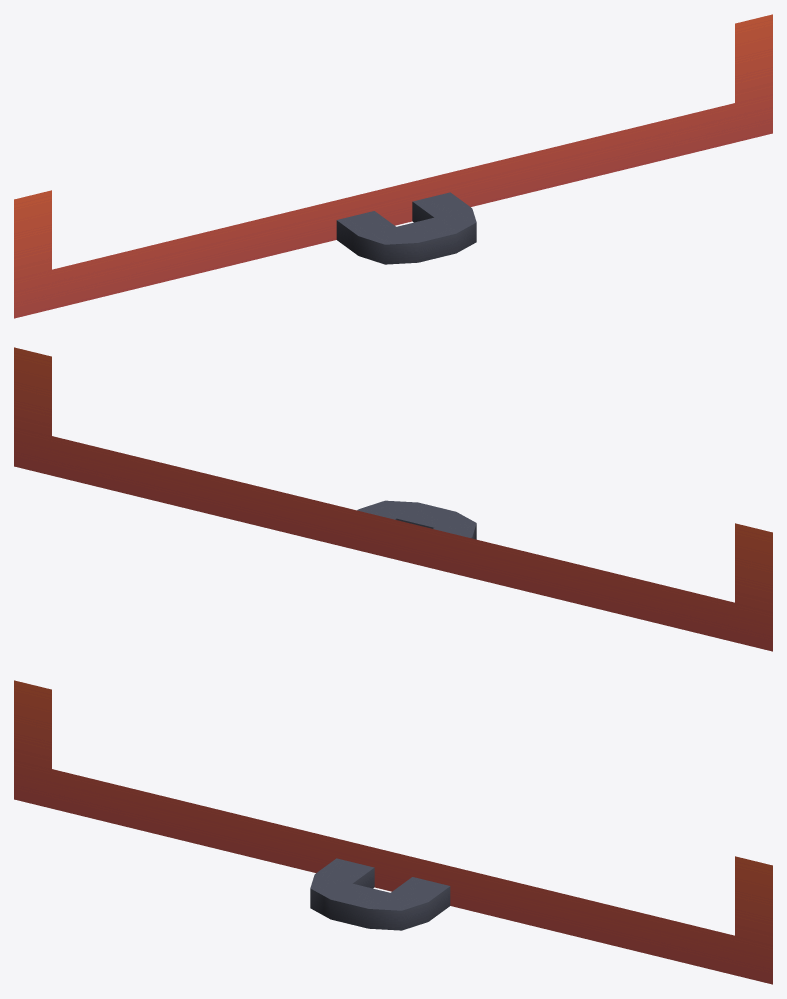
The model's file is track_striped_wide_cap_back.glb.
3 renders of one model, top to bottom at view 1: azimuth 30°, elevation 25°; view 2: azimuth 150°, elevation 25°; view 3: azimuth 330°, elevation 25°, orthographic.
Visible parts, largest first — view 1: track-striped-wide-cap-back; view 2: track-striped-wide-cap-back; view 3: track-striped-wide-cap-back.
Boxes of the visible parts, box(x1,y1,x2,y2) form: track-striped-wide-cap-back: box(14, 14, 772, 318); track-striped-wide-cap-back: box(14, 347, 772, 651); track-striped-wide-cap-back: box(14, 680, 772, 984).
Bounding box in the file's own units: 2 × 0.3 × 0.2.
Materials: 1 (1 with a texture image).
